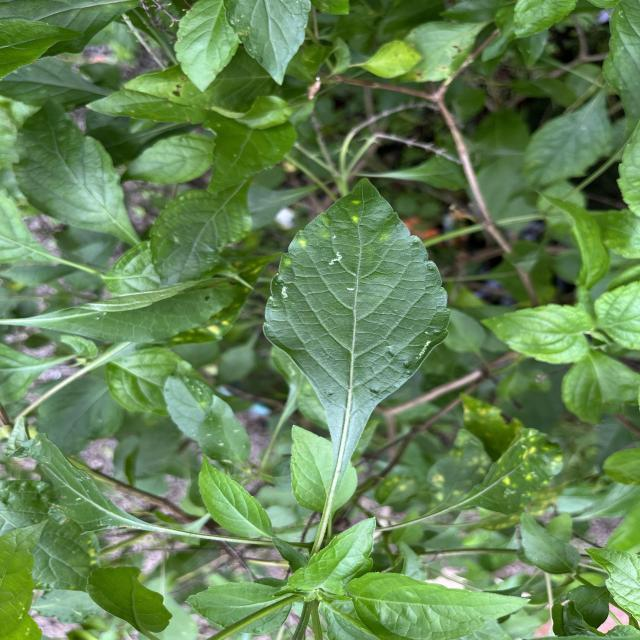Ocimum gratissimum: (257, 173, 453, 534), (338, 568, 538, 640)
